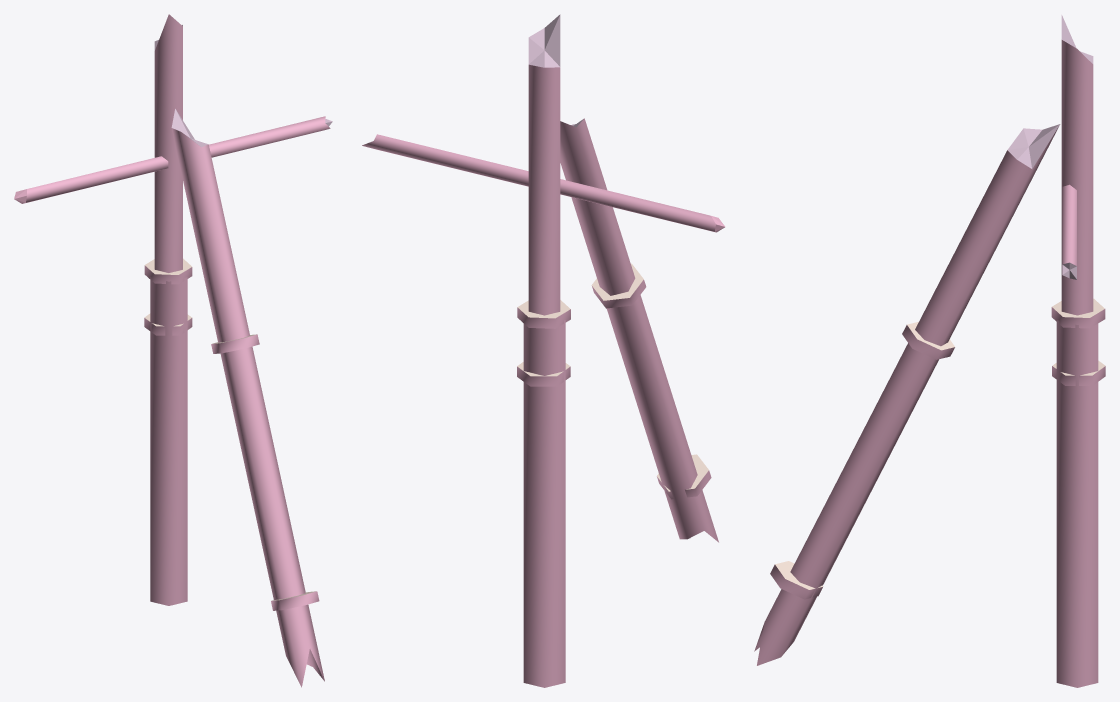
Rendered from ytlds_Object (16).fbx.
The picture shows the model from 3 angles, left to right: view 1: azimuth 30°, elevation 25°; view 2: azimuth 150°, elevation 25°; view 3: azimuth 270°, elevation 25°; orthographic projection. The views are drawn at different scales.
Parts seen in each view (by area): view 1: Object16; view 2: Object16; view 3: Object16.
Boxes of the visible parts, x1,y1,x2,y2 form: Object16: [14, 14, 332, 687]; Object16: [362, 14, 725, 687]; Object16: [754, 15, 1105, 687].
Size of the model in its own units: 324 by 566 by 274.
